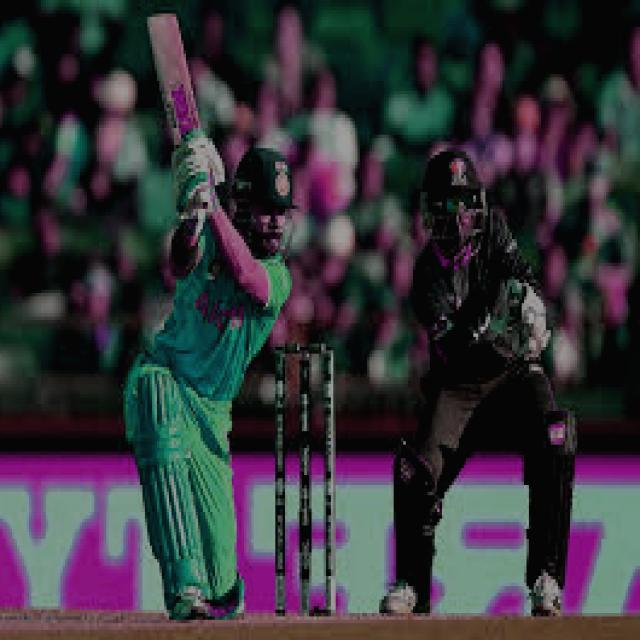bat: (129, 9, 218, 144)
